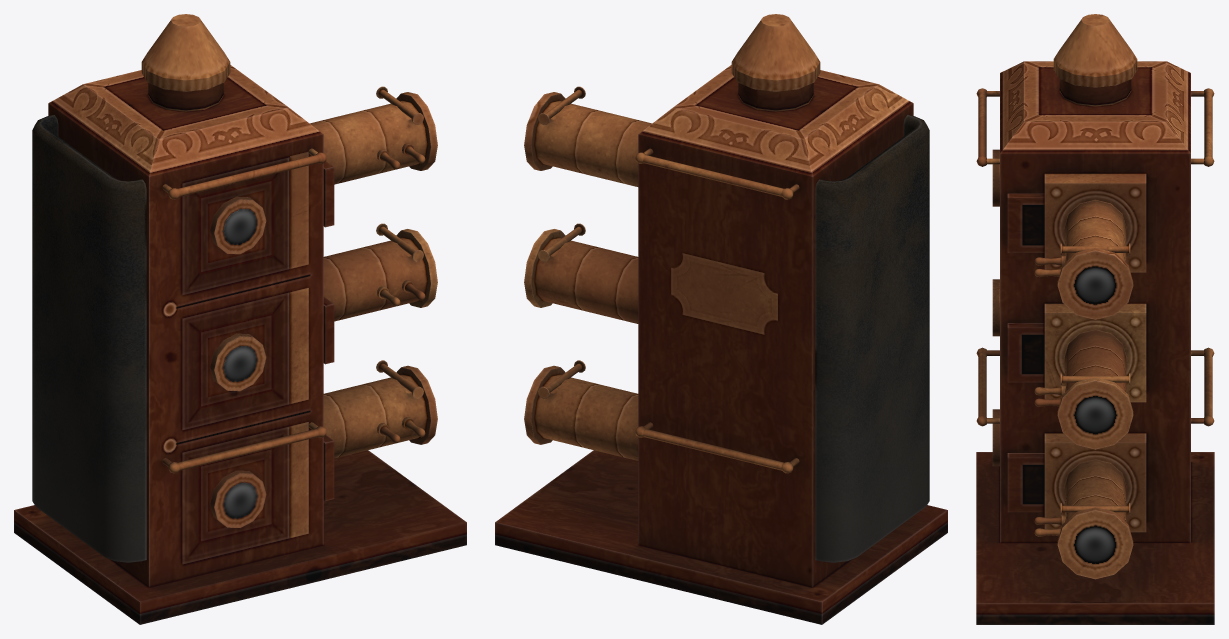
The model's file is DS_WizLab_Clut_ContraptionA.fbx.
3 renders of one model, left to right at view 1: azimuth 30°, elevation 25°; view 2: azimuth 150°, elevation 25°; view 3: azimuth 270°, elevation 25°, orthographic. The views are drawn at different scales.
Visible parts, largest first — view 1: DS_WizLab_Clut_ContraptionA; view 2: DS_WizLab_Clut_ContraptionA; view 3: DS_WizLab_Clut_ContraptionA.
Part boxes in pixels (x1,y1,x2,y2): DS_WizLab_Clut_ContraptionA: [14, 14, 466, 624]; DS_WizLab_Clut_ContraptionA: [495, 14, 947, 624]; DS_WizLab_Clut_ContraptionA: [976, 14, 1214, 624].
Size of the model in its own units: 31.89 by 46.63 by 20.
Materials: 1 (1 with a texture image).
